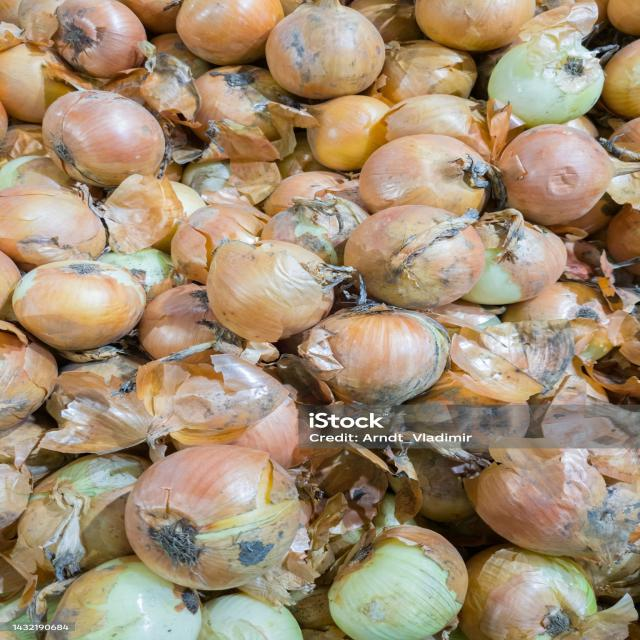rotten: (52, 56, 320, 146), (164, 450, 320, 586), (368, 152, 504, 295)
